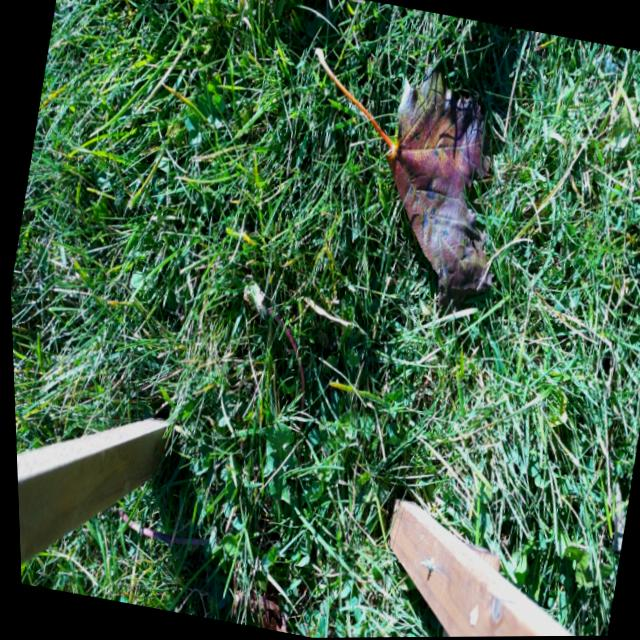base: (285, 402, 311, 439)
